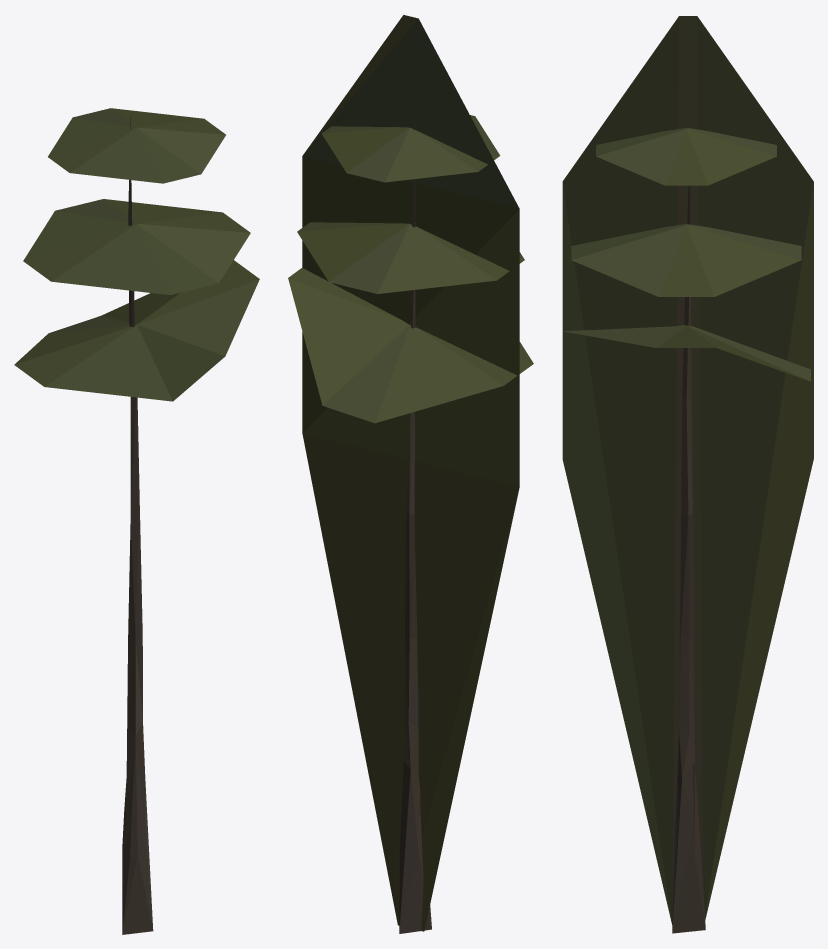
Rendered from nadel_6.glb.
3 renders of one model, left to right at view 1: azimuth 30°, elevation 25°; view 2: azimuth 150°, elevation 25°; view 3: azimuth 270°, elevation 25°, orthographic.
Parts seen in each view (by area): view 1: rinde; view 2: rinde; view 3: rinde.
Boxes of the visible parts, left/top/right/bottom form: rinde: left=14, top=108, right=259, bottom=934; rinde: left=288, top=15, right=533, bottom=933; rinde: left=562, top=16, right=813, bottom=933.
Bounding box in the file's own units: 2.75 × 11 × 2.76.
